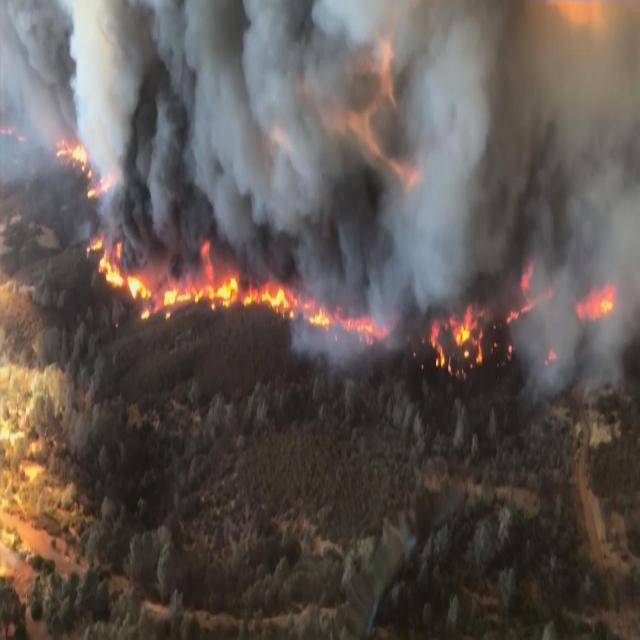Fire: (0, 127, 623, 366)
Smoke: (0, 0, 636, 341)
